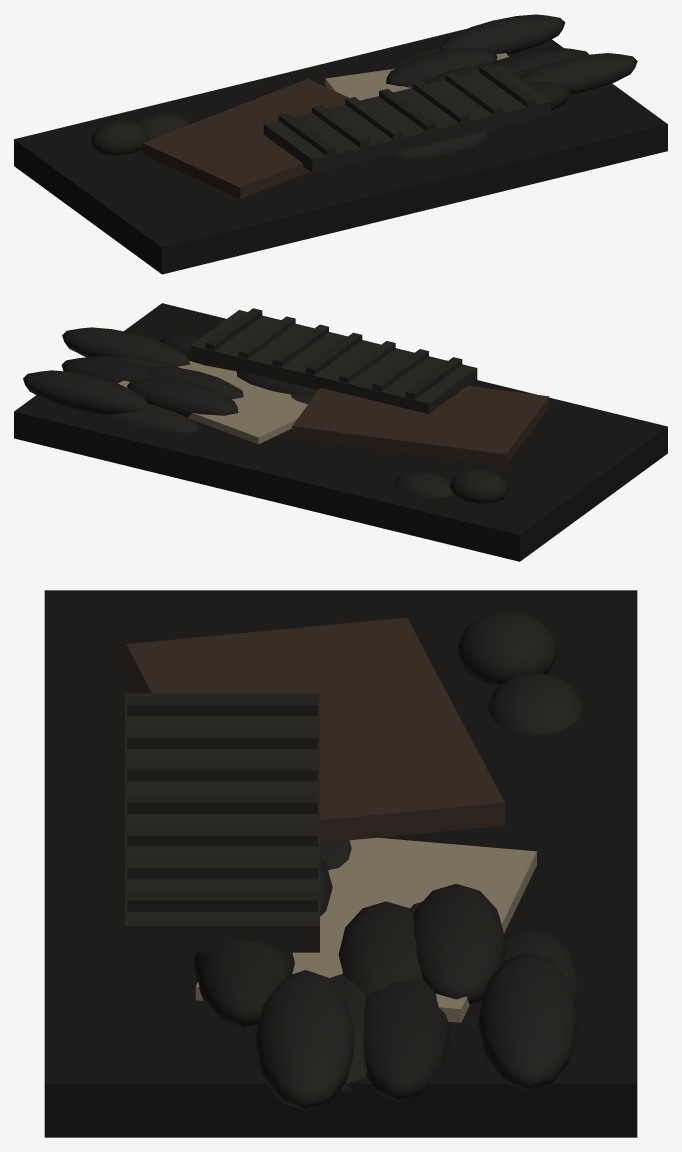
The model's file is obj-hearth.glb.
The picture shows the model from 3 angles, top to bottom: view 1: azimuth 30°, elevation 25°; view 2: azimuth 150°, elevation 25°; view 3: azimuth 270°, elevation 25°; orthographic projection. The views are drawn at different scales.
Visible parts, largest first — view 1: obj-hearth-black, obj-hearth-leather, obj-hearth-paper; view 2: obj-hearth-black, obj-hearth-leather, obj-hearth-paper; view 3: obj-hearth-black, obj-hearth-leather, obj-hearth-paper.
Part boxes in pixels (left/top/right/bottom): obj-hearth-black: left=14, top=14, right=667, bottom=274; obj-hearth-leather: left=142, top=79, right=348, bottom=198; obj-hearth-paper: left=325, top=53, right=508, bottom=100; obj-hearth-black: left=14, top=303, right=667, bottom=561; obj-hearth-leather: left=292, top=385, right=549, bottom=465; obj-hearth-paper: left=118, top=361, right=307, bottom=444; obj-hearth-black: left=44, top=590, right=637, bottom=1137; obj-hearth-leather: left=126, top=617, right=504, bottom=840; obj-hearth-paper: left=195, top=837, right=536, bottom=1022.
Bounding box in the file's own units: 1.48 × 0.167 × 0.7.
